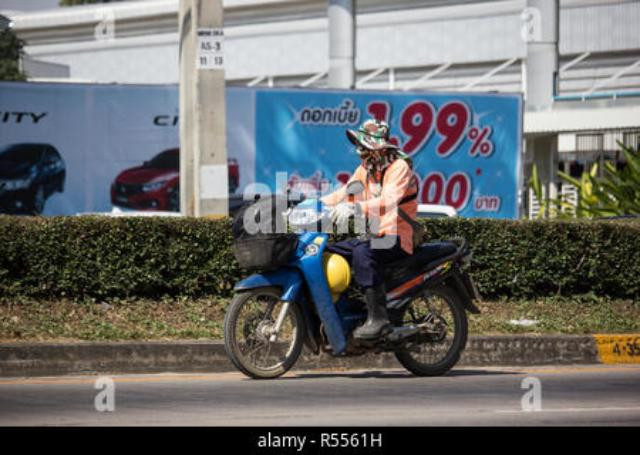motor: (225, 181, 477, 379)
non-helm: (349, 121, 402, 171)
